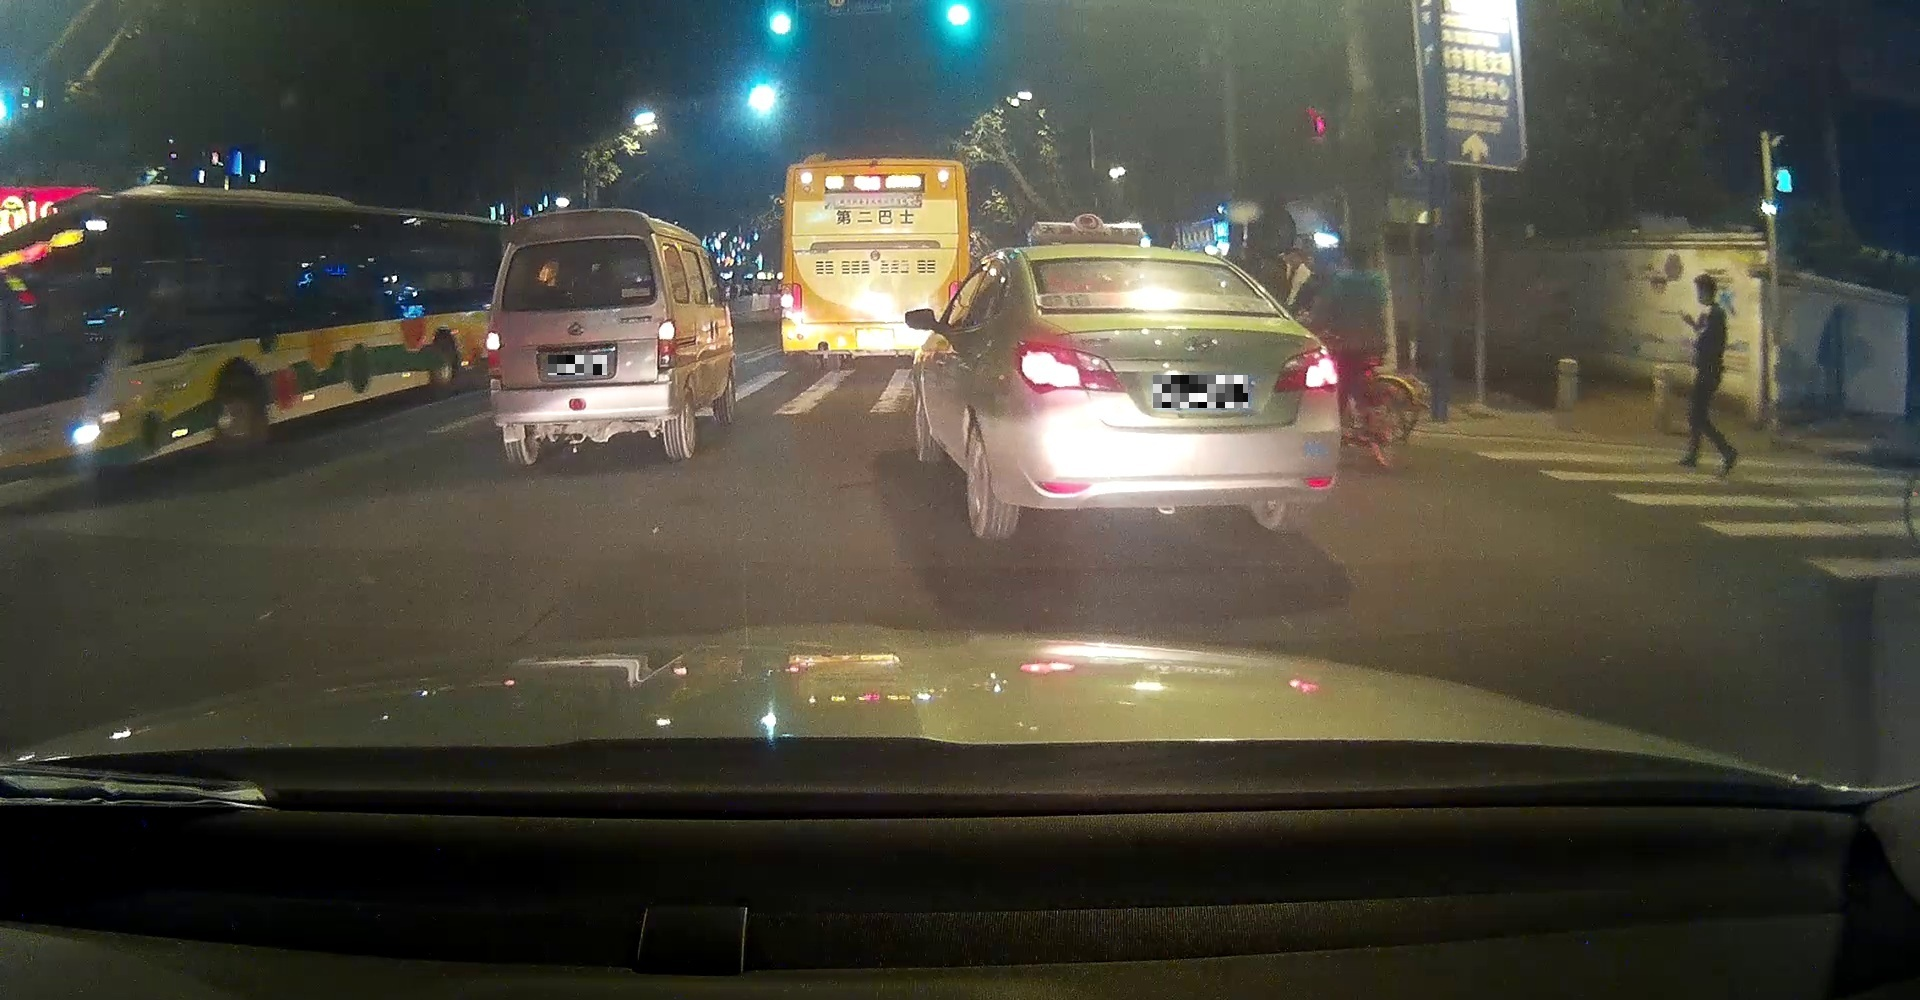L_light: (1013, 340, 1128, 395), (780, 280, 803, 322), (484, 327, 503, 371)
R_light: (1272, 344, 1338, 393), (657, 316, 676, 365), (949, 279, 964, 306)
T_light: (1119, 254, 1161, 263), (551, 239, 589, 245), (861, 165, 890, 173)
night-no: (1007, 242, 1340, 530), (484, 209, 684, 468), (780, 156, 970, 371)
plate_1: (549, 355, 607, 376)
plate_2: (1153, 376, 1248, 409)
